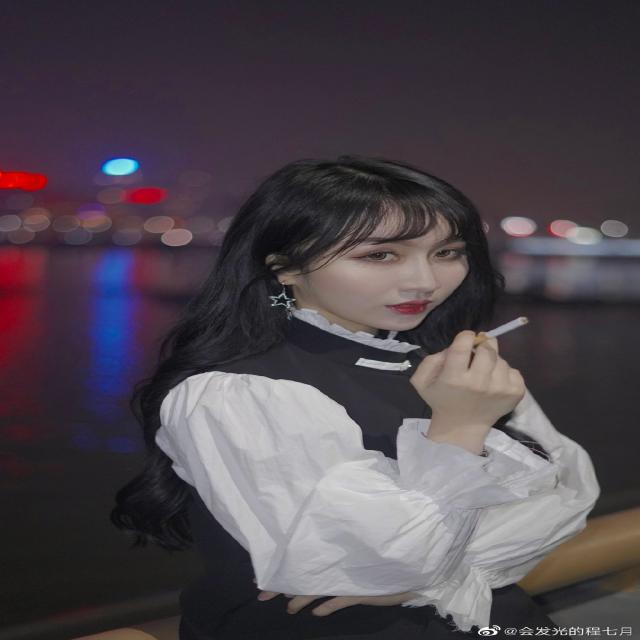smoke: (479, 308, 543, 346)
